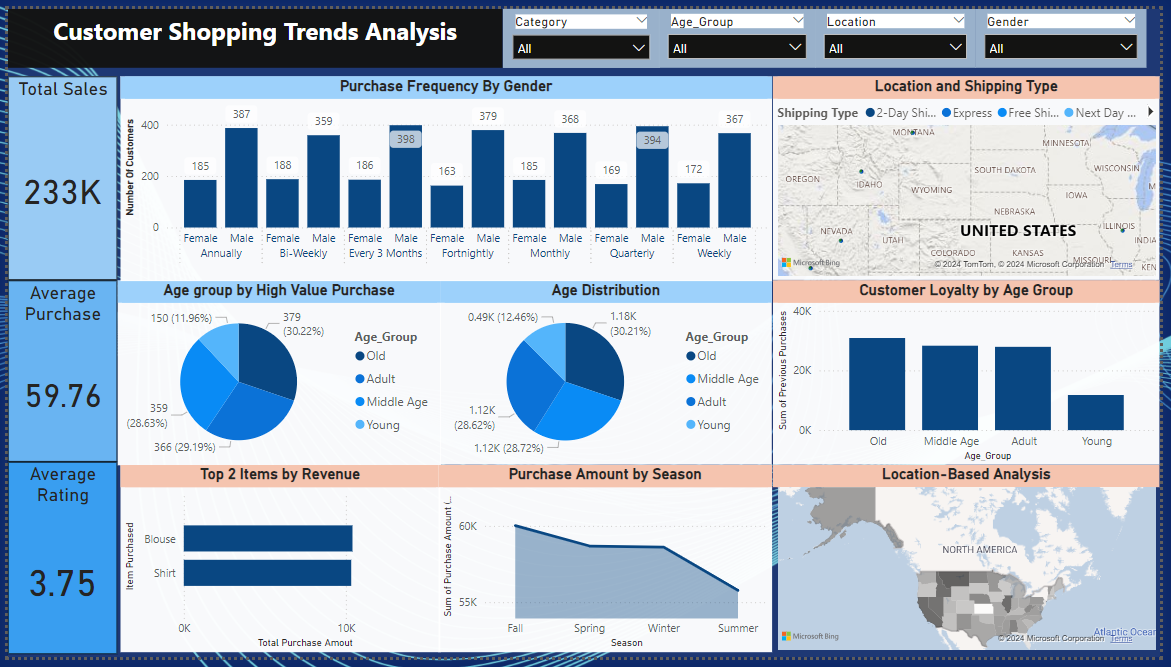

Layout of this report page (visuals, bound fields, positions):
{"tool":"powerbi","page":{"name":"Dashboard","canvas":[1280,720],"ordinal":0},"visuals":[{"type":"pieChart","title":"Age Distribution","fields":{"Category":["Ecomerce_Data.Age_Group"],"Y":["CountNonNull(Ecomerce_Data.Customer ID)"]},"box":[480.3,301.6,368.9,204.9],"z":0},{"type":"lineStackedColumnComboChart","title":"Customer Loyalty by Age Group","fields":{"Category":["Ecomerce_Data.Age_Group"],"Y":["Sum(Ecomerce_Data.Previous Purchases)"]},"box":[849.2,301.6,429.5,204.9],"z":1000},{"type":"pieChart","title":"Age group by High Value Purchase","fields":{"Category":["Ecomerce_Data.Age_Group"],"Y":["CountNonNull(Ecomerce_Data.Purchase Amount (USD))"]},"box":[120.9,302.2,359.5,205.2],"z":2000},{"type":"lineStackedColumnComboChart","title":"Purchase Frequency By Gender","fields":{"Category":["Ecomerce_Data.Frequency of Purchases (groups)","Ecomerce_Data.Gender"],"Y":["CountNonNull(Ecomerce_Data.Customer ID)"]},"box":[125.7,74.8,723.7,227.5],"z":3000},{"type":"clusteredBarChart","title":"Top 2 Items by Revenue","fields":{"Category":["Ecomerce_Data.Item Purchased"],"Y":["Sum(Ecomerce_Data.Purchase Amount (USD))"]},"box":[125.1,506.8,355.1,208],"z":4000},{"type":"stackedAreaChart","title":"Purchase Amount by Season","fields":{"Y":["Sum(Ecomerce_Data.Purchase Amount (USD))"],"Category":["Ecomerce_Data.Season"]},"box":[478.7,506.6,370.5,208.2],"z":5000},{"type":"filledMap","title":"Location-Based Analysis","fields":{"Category":["Ecomerce_Data.Location"]},"box":[849.2,506.6,429.5,209.8],"z":6000},{"type":"map","fields":{"Category":["Ecomerce_Data.Location"],"Series":["Ecomerce_Data.Shipping Type"]},"box":[849.2,75.4,429.5,226.2],"z":7000},{"type":"slicer","fields":{"Values":["Ecomerce_Data.Category"]},"box":[549.2,0,173.8,65.6],"z":8000},{"type":"slicer","fields":{"Values":["Ecomerce_Data.Age_Group"]},"box":[723,0,173.8,65.6],"z":9000},{"type":"slicer","fields":{"Values":["Ecomerce_Data.Location"]},"box":[896.7,0,178.7,65.6],"z":10000},{"type":"slicer","fields":{"Values":["Ecomerce_Data.Gender"]},"box":[1075.4,0,190.2,65.6],"z":11000},{"type":"textbox","box":[0,0,549.2,65.6],"z":12000},{"type":"shape","box":[0,74.8,120.9,641],"z":13000},{"type":"card","title":"Total Sales","fields":{"Values":["Sum(Ecomerce_Data.Purchase Amount (USD))"]},"box":[0,75.4,121.3,226.2],"z":14000},{"type":"card","title":"Average Purchase","fields":{"Values":["Avg(Ecomerce_Data.Purchase Amount (USD))"]},"box":[0,301.6,121.3,201.6],"z":15000},{"type":"card","title":"Average Rating","fields":{"Values":["Avg(Ecomerce_Data.Review Rating)"]},"box":[0,503.3,121.3,213.1],"z":16000}]}

Visuals, with their boxes in screenshot pixels (x1, y1, x2, y2), scaled from the page's 1280x720 canvas onto the 1171x667 screenshot:
"Age Distribution" pieChart: x1=439, y1=279, x2=777, y2=469
"Customer Loyalty by Age Group" lineStackedColumnComboChart: x1=777, y1=279, x2=1170, y2=469
"Age group by High Value Purchase" pieChart: x1=111, y1=280, x2=439, y2=470
"Purchase Frequency By Gender" lineStackedColumnComboChart: x1=115, y1=69, x2=777, y2=280
"Top 2 Items by Revenue" clusteredBarChart: x1=114, y1=469, x2=439, y2=662
"Purchase Amount by Season" stackedAreaChart: x1=438, y1=469, x2=777, y2=662
"Location-Based Analysis" filledMap: x1=777, y1=469, x2=1170, y2=664
map - Ecomerce_Data.Location x Ecomerce_Data.Shipping Type: x1=777, y1=70, x2=1170, y2=279
slicer - Ecomerce_Data.Category: x1=502, y1=0, x2=661, y2=61
slicer - Ecomerce_Data.Age_Group: x1=661, y1=0, x2=820, y2=61
slicer - Ecomerce_Data.Location: x1=820, y1=0, x2=984, y2=61
slicer - Ecomerce_Data.Gender: x1=984, y1=0, x2=1158, y2=61
textbox: x1=0, y1=0, x2=502, y2=61
shape: x1=0, y1=69, x2=111, y2=663
"Total Sales" card: x1=0, y1=70, x2=111, y2=279
"Average Purchase" card: x1=0, y1=279, x2=111, y2=466
"Average Rating" card: x1=0, y1=466, x2=111, y2=664
